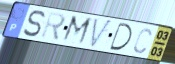C: (132, 27, 153, 55)
D: (108, 21, 134, 52)
M: (60, 14, 94, 47)
R: (39, 11, 67, 43)
S: (21, 9, 46, 39)
V: (89, 17, 114, 50)
